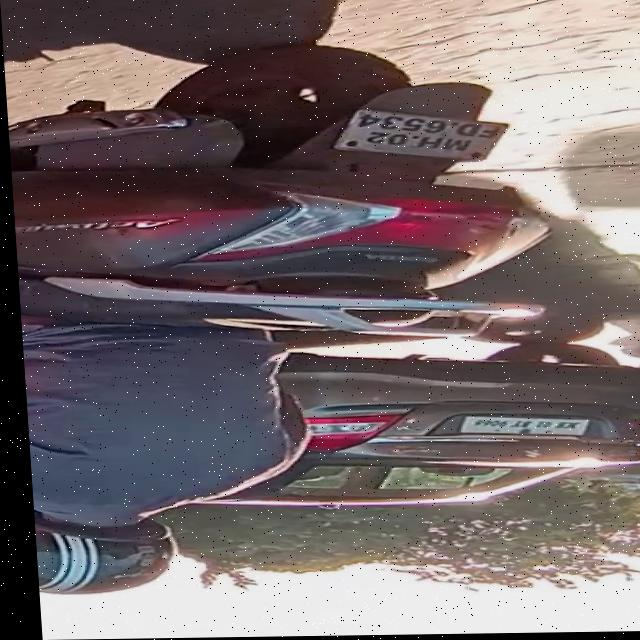plate: (330, 97, 508, 166), (446, 416, 586, 441)
